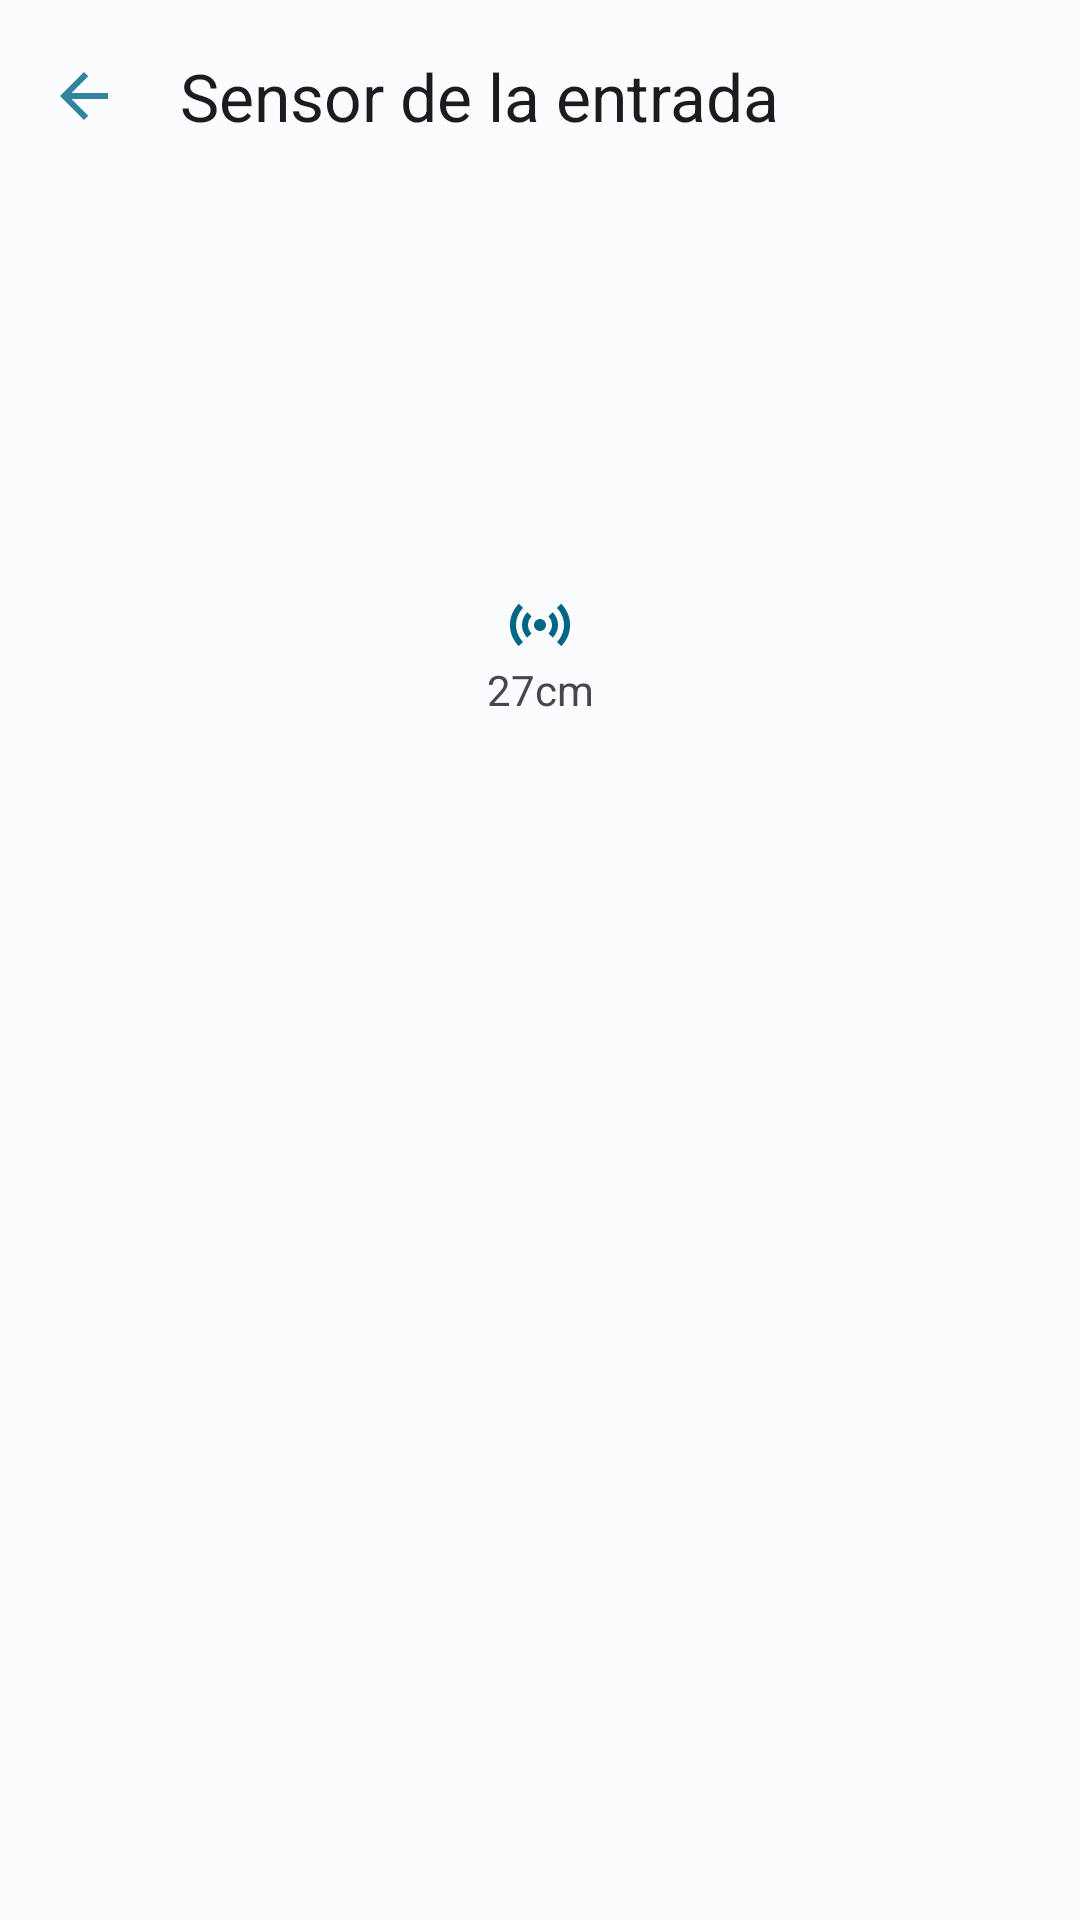

Locate icon controls on the screen. Image size 1080w x 1920h, boxes as (x1, y1, x2, y2).
sensor on: (510, 604, 570, 646)
